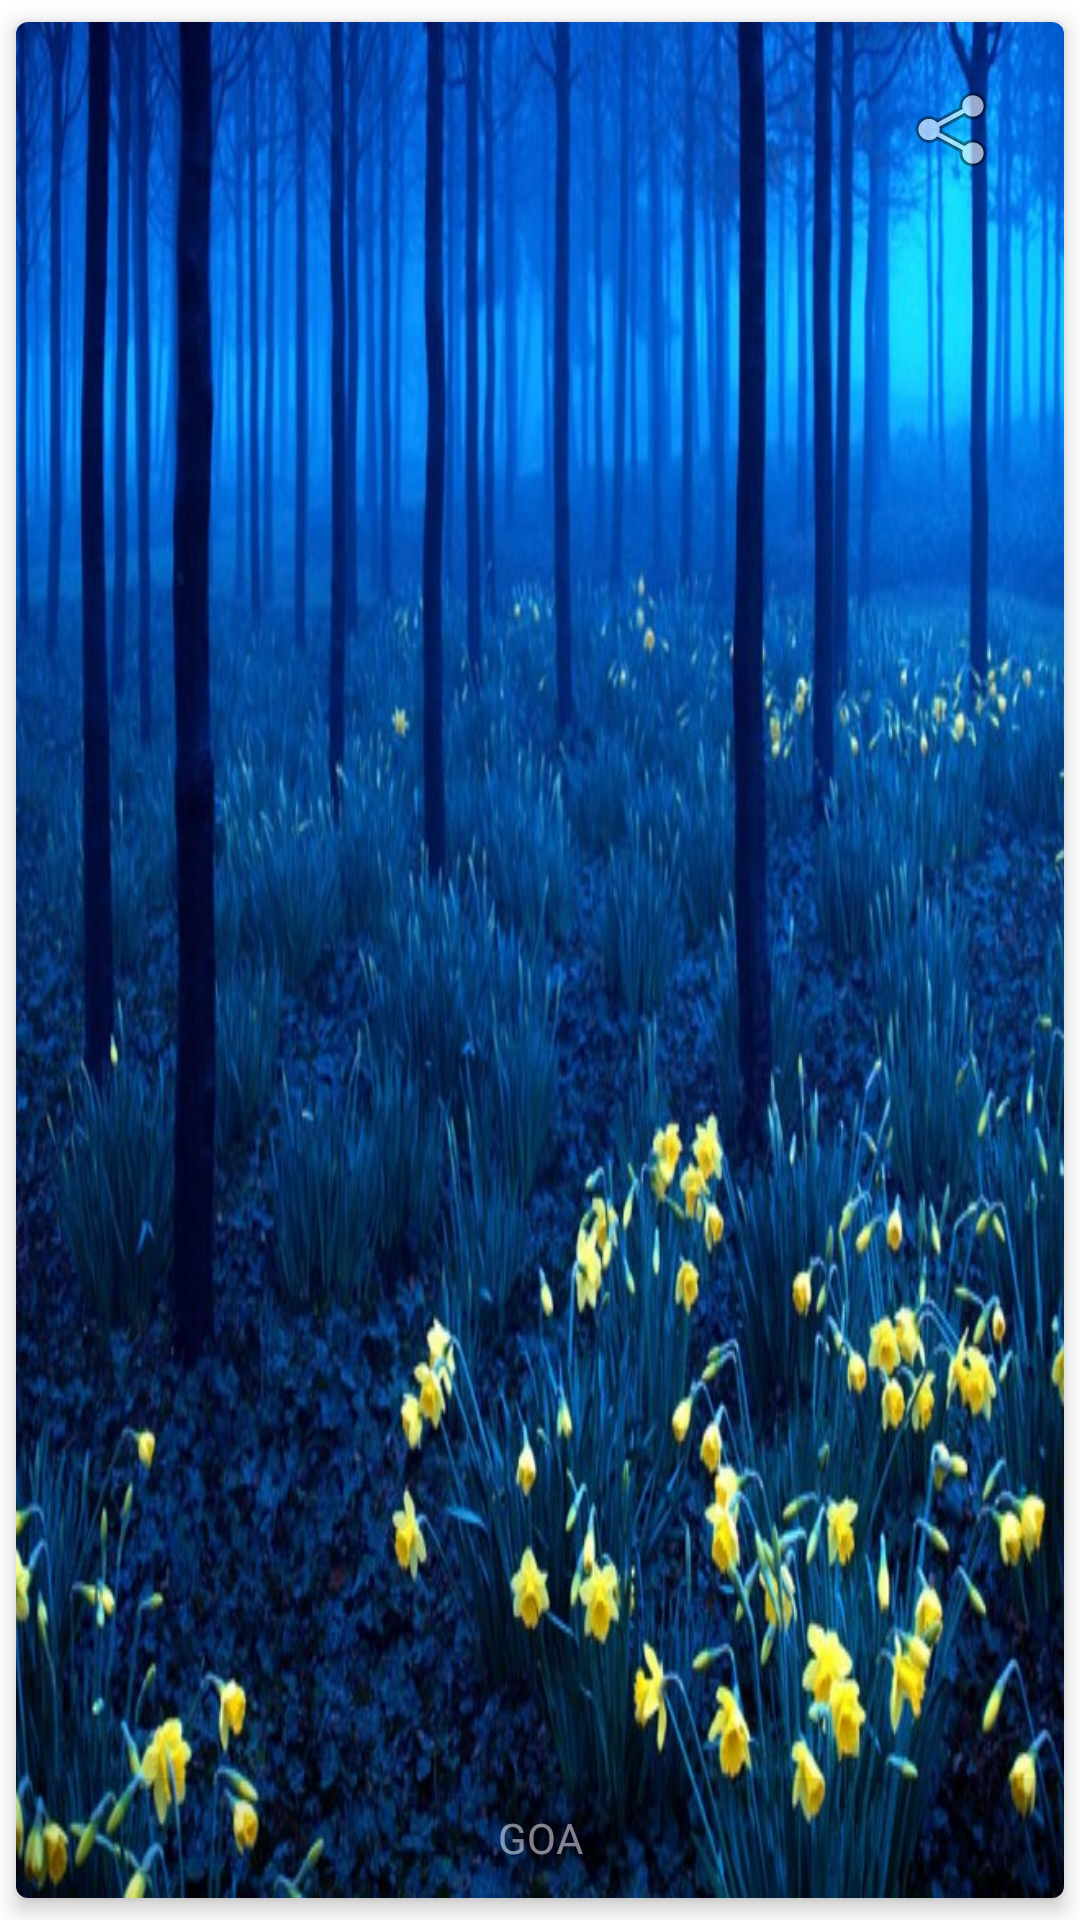

Icon click points for this 1080 x 1920 phone screenshot, format (x=x, y=y):
share: (x=956, y=130)
